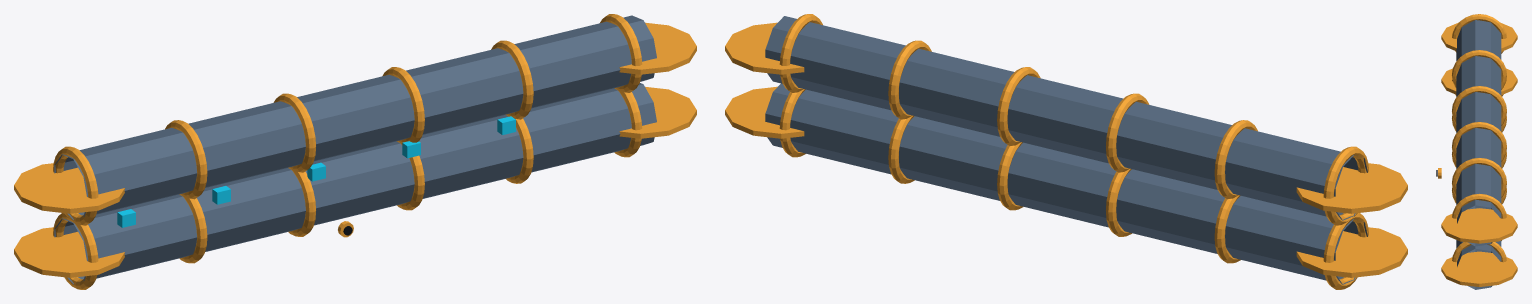
The model's file is 60_L88_PrimaryAirDuctDistributionManifold.fbx.
3 renders of one model, left to right at view 1: azimuth 30°, elevation 25°; view 2: azimuth 150°, elevation 25°; view 3: azimuth 270°, elevation 25°, orthographic. The views are drawn at different scales.
Visible parts, largest first — view 1: L87_PrimaryAirDuctDistributionManifold_Part_0000, L87_PrimaryAirDuctDistributionManifold_Part_0001, L87_PrimaryAirDuctDistributionManifold_Part_0002; view 2: L87_PrimaryAirDuctDistributionManifold_Part_0000, L87_PrimaryAirDuctDistributionManifold_Part_0001; view 3: L87_PrimaryAirDuctDistributionManifold_Part_0001, L87_PrimaryAirDuctDistributionManifold_Part_0000.
Boxes of the visible parts, x1,y1,x2,y2 form: L87_PrimaryAirDuctDistributionManifold_Part_0000: [54, 15, 656, 284]; L87_PrimaryAirDuctDistributionManifold_Part_0001: [14, 14, 696, 289]; L87_PrimaryAirDuctDistributionManifold_Part_0002: [117, 116, 515, 227]; L87_PrimaryAirDuctDistributionManifold_Part_0000: [765, 16, 1367, 284]; L87_PrimaryAirDuctDistributionManifold_Part_0001: [725, 14, 1407, 289]; L87_PrimaryAirDuctDistributionManifold_Part_0001: [1441, 14, 1517, 286]; L87_PrimaryAirDuctDistributionManifold_Part_0000: [1456, 20, 1501, 289].
Bounding box in the file's own units: 632 × 125 × 98.4.
